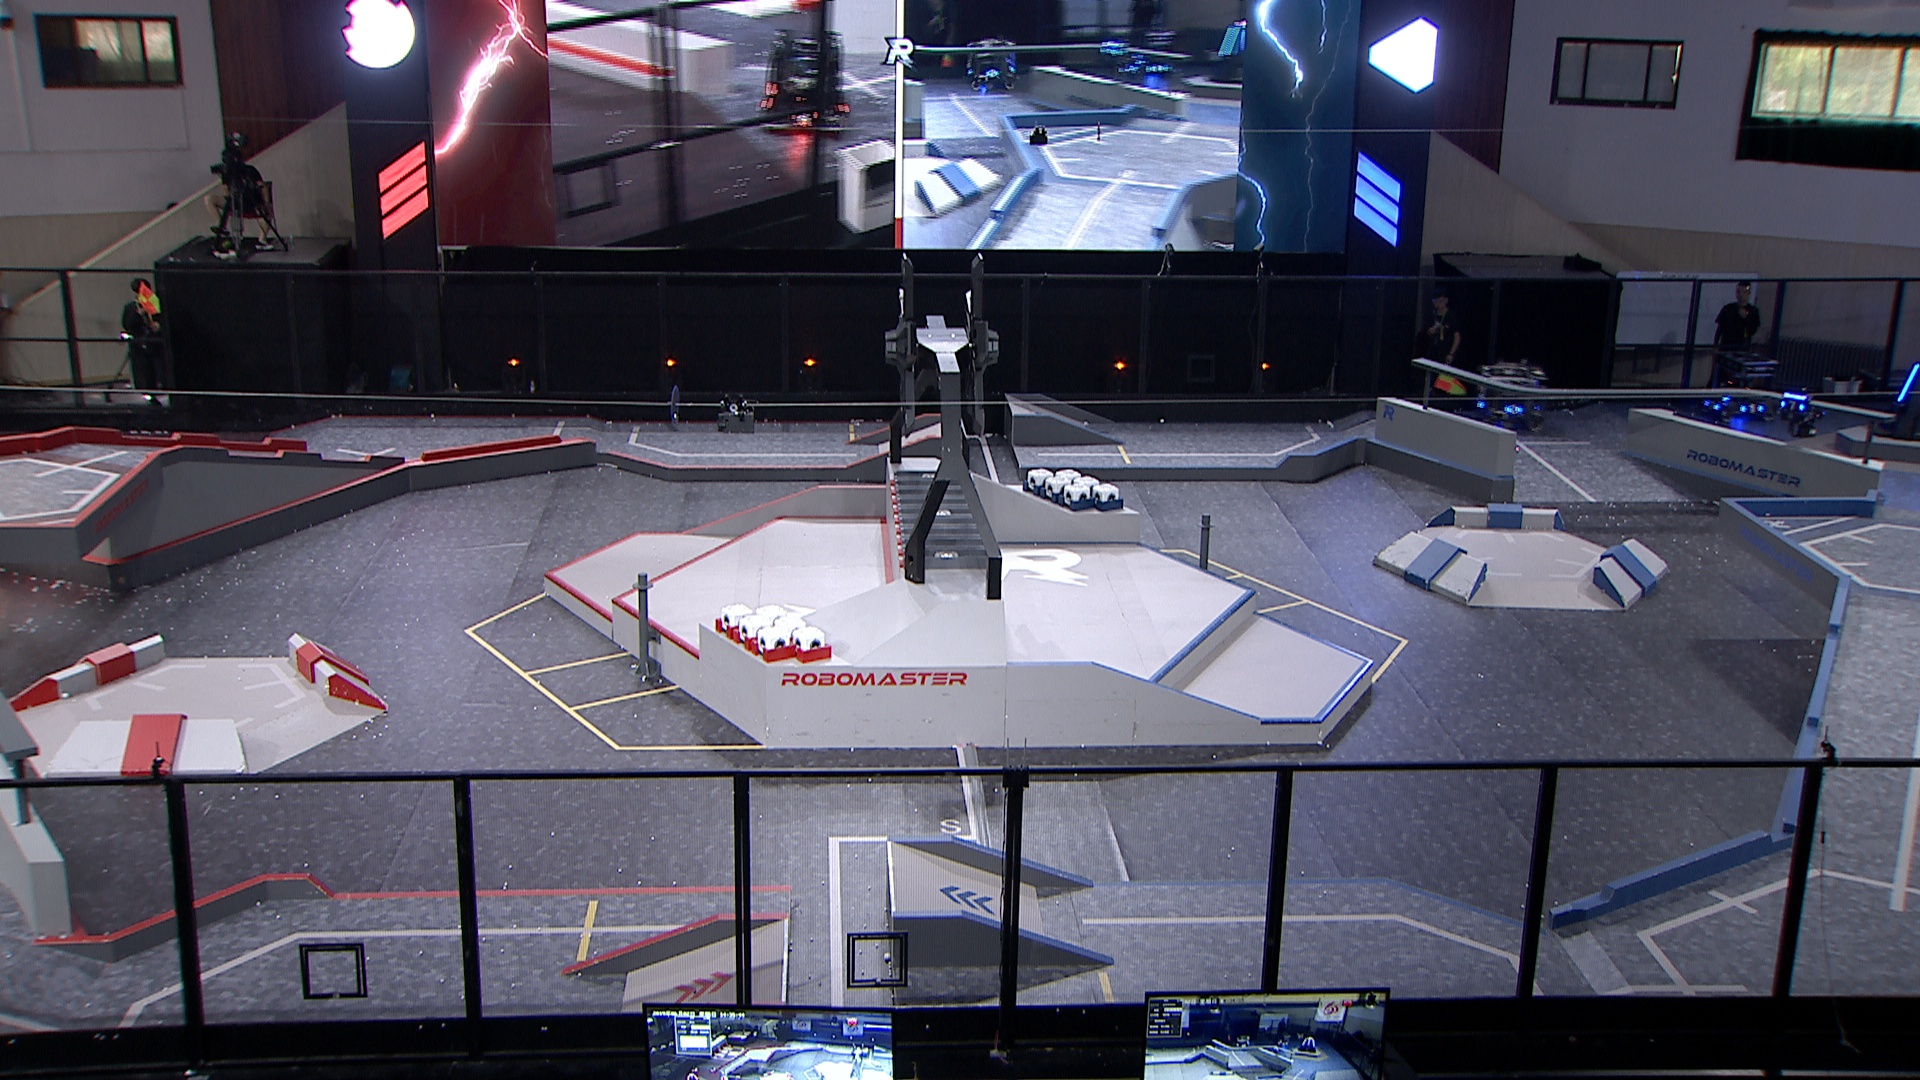armor: (1896, 361, 1920, 404), (1779, 400, 1807, 414), (1738, 401, 1764, 415), (1700, 400, 1724, 414), (1503, 405, 1524, 414)
base: (1871, 335, 1920, 439)
car: (1691, 349, 1782, 429), (1474, 357, 1553, 433)
ignore: (760, 25, 852, 136), (963, 36, 1021, 92), (1207, 18, 1245, 90), (1141, 25, 1182, 76), (1097, 36, 1134, 65), (1112, 53, 1147, 76)
watcher: (1775, 377, 1826, 439)
